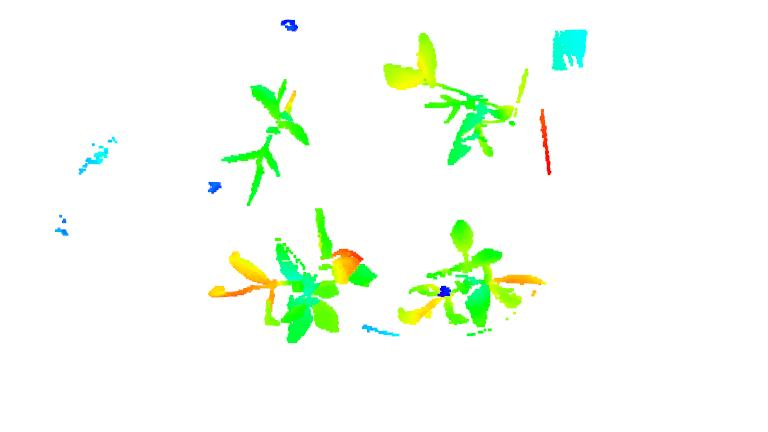mungbean: (210, 212, 389, 342), (383, 33, 520, 164), (404, 217, 548, 338), (223, 77, 311, 209)
